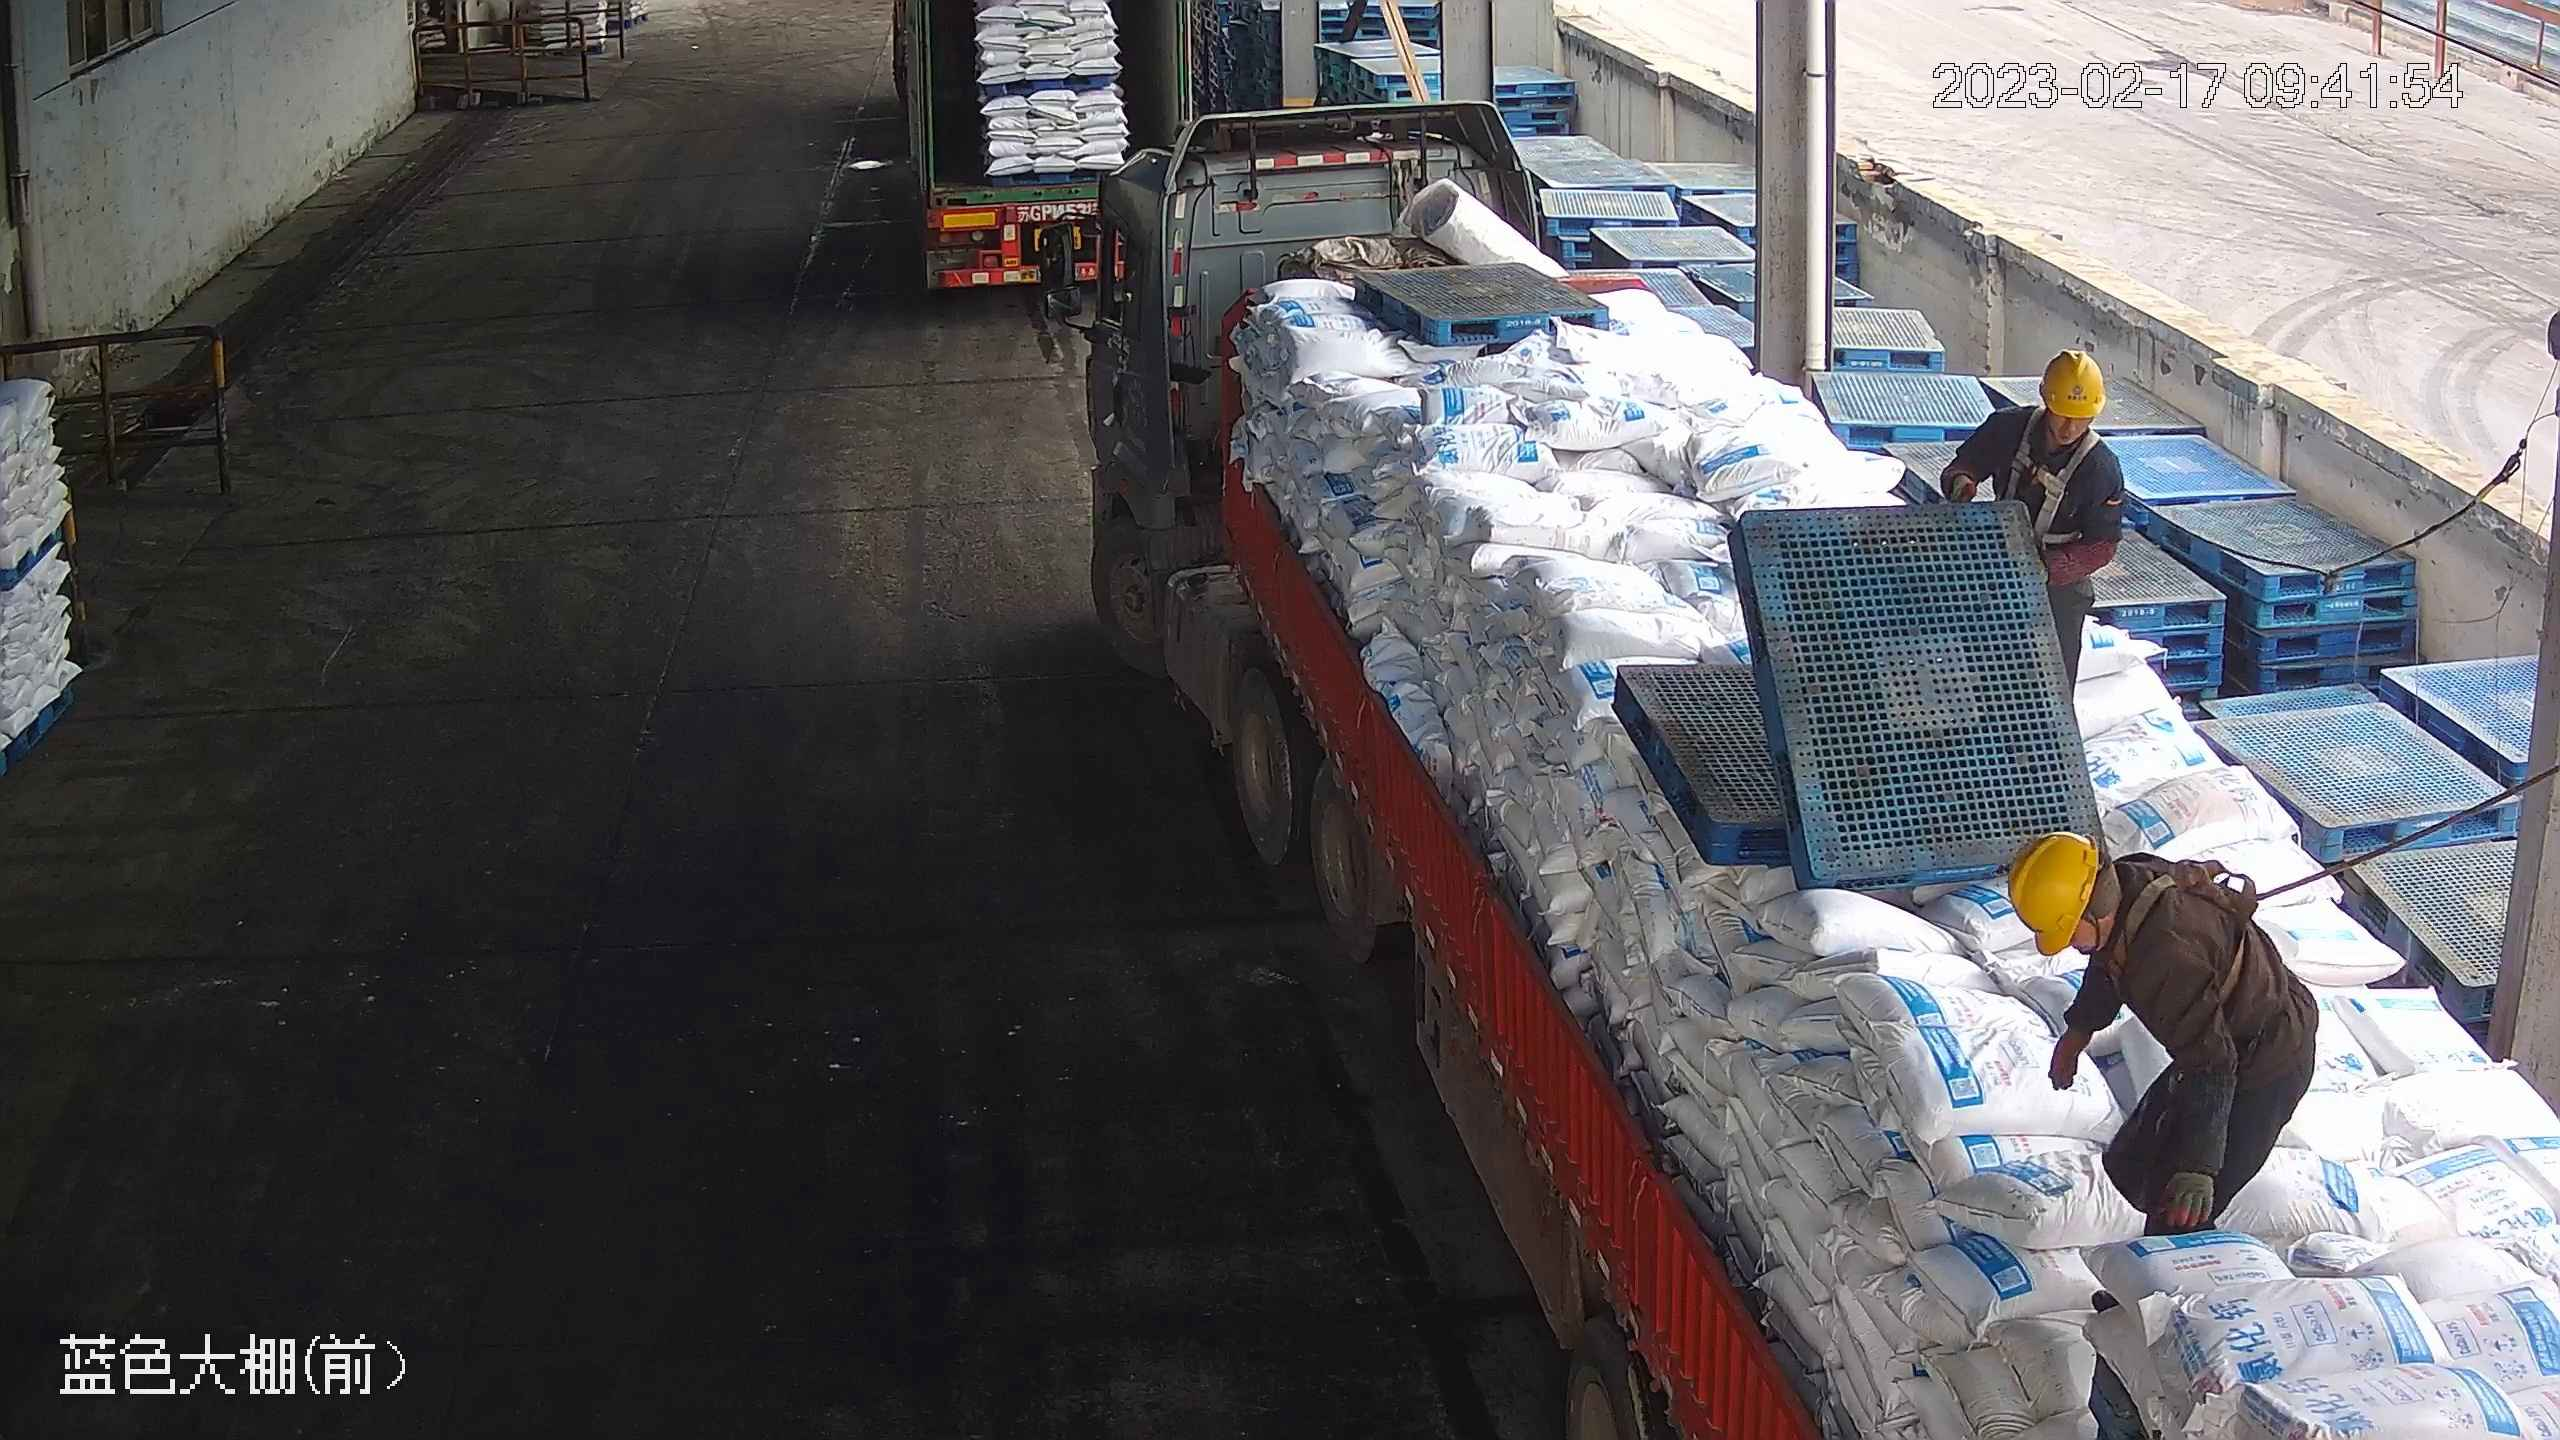belt: (2112, 851, 2264, 1008), (2019, 418, 2097, 522)
head: (2004, 828, 2223, 1001), (1982, 344, 2125, 490)
helmet: (2004, 830, 2103, 956), (2039, 346, 2108, 418)
people: (2006, 829, 2323, 1245), (1943, 343, 2126, 716)
truck: (1037, 98, 2553, 1437), (891, 1, 1186, 291)
